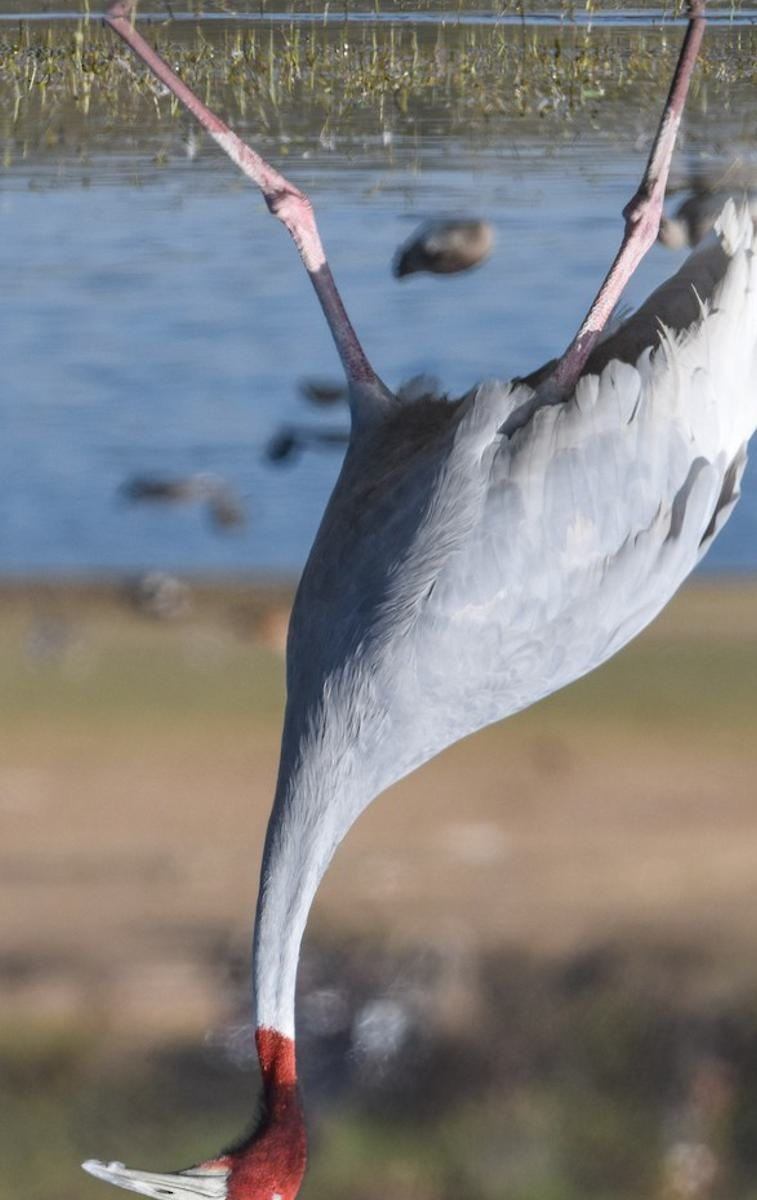crane: (79, 1, 757, 1196)
